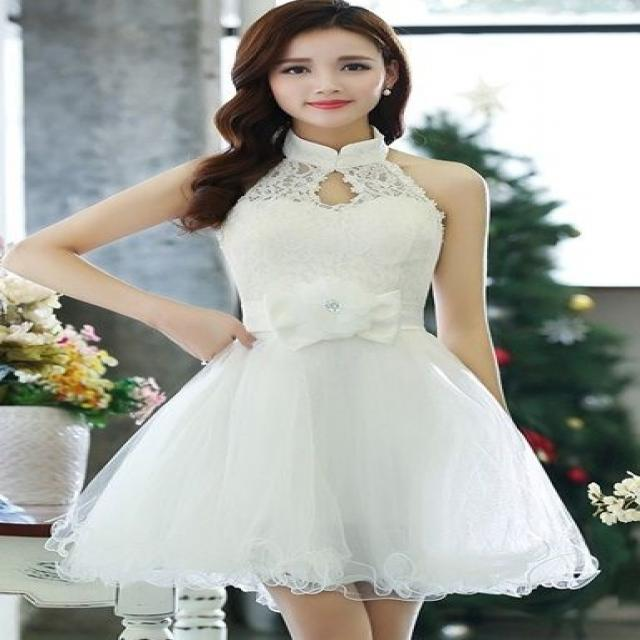clothes: (32, 136, 603, 597)
